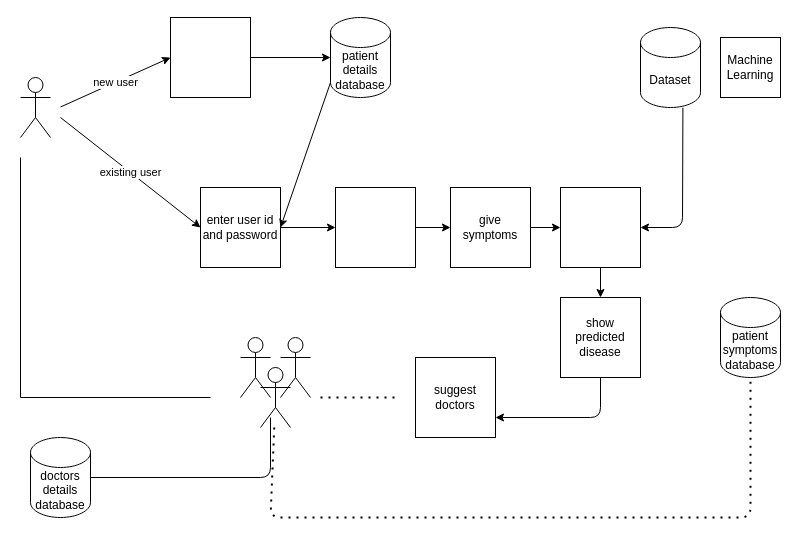
The diagram is 798 pixels wide and 537 high, and some of its shapes have lost their labels. Here are the shapes that lost their labels. From the top down, the box of each, then its label:
(170, 16, 250, 98): register
(20, 76, 50, 138): Patient
(334, 186, 416, 268): check language
(560, 186, 640, 268): trained model
(260, 366, 290, 428): Doctors
